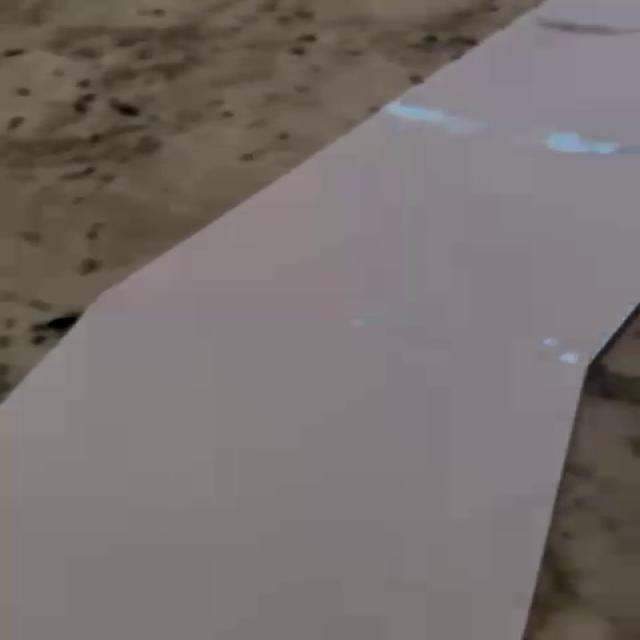road: (0, 0, 640, 640)
